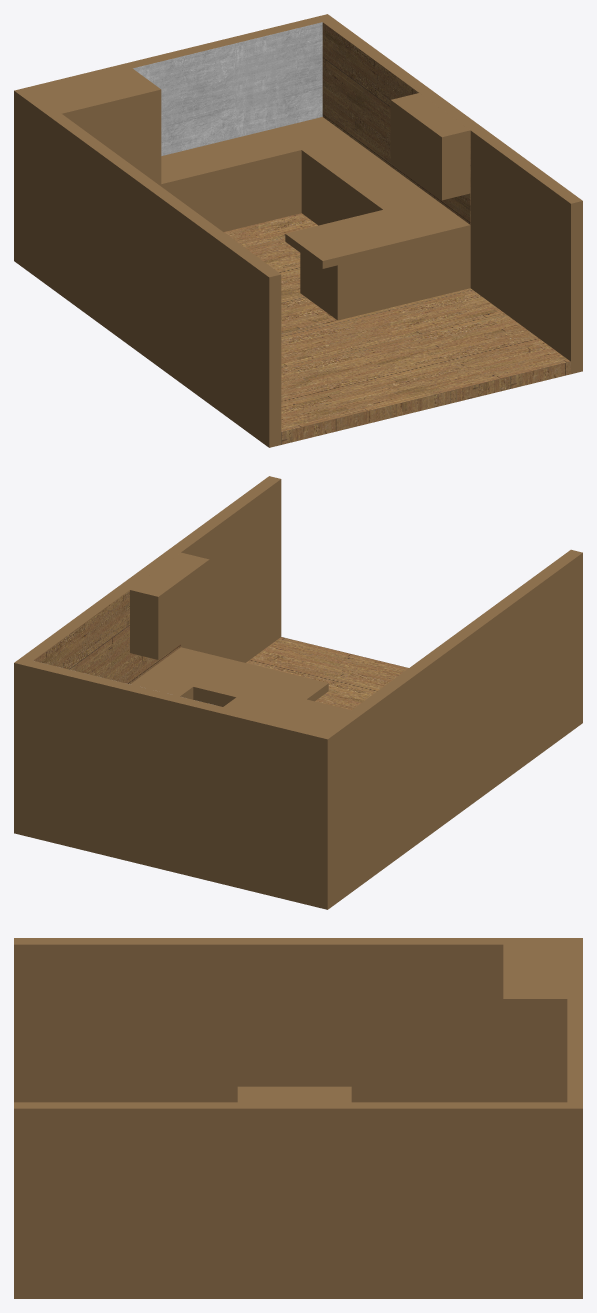
3 renders of one model, top to bottom at view 1: azimuth 30°, elevation 25°; view 2: azimuth 150°, elevation 25°; view 3: azimuth 270°, elevation 25°, orthographic. The views are drawn at different scales.
Parts seen in each view (by area): view 1: Lay_09, Lay_01, Lay_03, Lay_02, Lay_07, Lay_08, Lay_06, Lay_04, Lay_05; view 2: Lay_09, Lay_06, Lay_03, Lay_01, Lay_08, Lay_04, Lay_05; view 3: Lay_09, Lay_04, Lay_06, Lay_05.
Part boxes in pixels (x1,y1,x2,y2): Lay_09: (14, 14, 582, 447); Lay_01: (224, 213, 570, 444); Lay_03: (161, 117, 470, 268); Lay_02: (167, 158, 470, 320); Lay_07: (133, 22, 322, 155); Lay_08: (322, 22, 470, 224); Lay_06: (390, 93, 470, 200); Lay_04: (83, 68, 161, 186); Lay_05: (33, 80, 111, 149); Lay_09: (14, 476, 582, 909); Lay_06: (130, 552, 209, 659); Lay_03: (130, 647, 328, 702); Lay_01: (246, 637, 408, 710); Lay_08: (33, 590, 180, 684); Lay_04: (223, 686, 301, 718); Lay_05: (273, 698, 350, 731); Lay_09: (14, 938, 582, 1298); Lay_04: (503, 971, 567, 1102); Lay_06: (237, 1086, 351, 1102); Lay_05: (503, 944, 567, 971).
Size of the model in its own units: 243 by 126 by 342.
2 materials, 2 textured.
